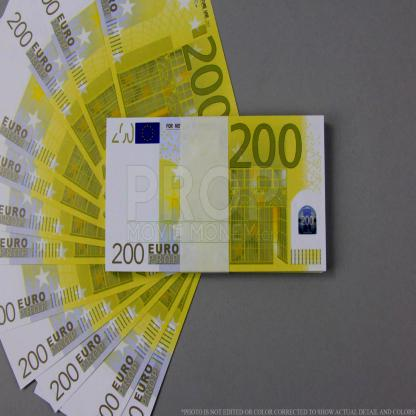euro_banknote: (106, 118, 325, 273), (112, 14, 231, 129), (5, 298, 191, 357)
